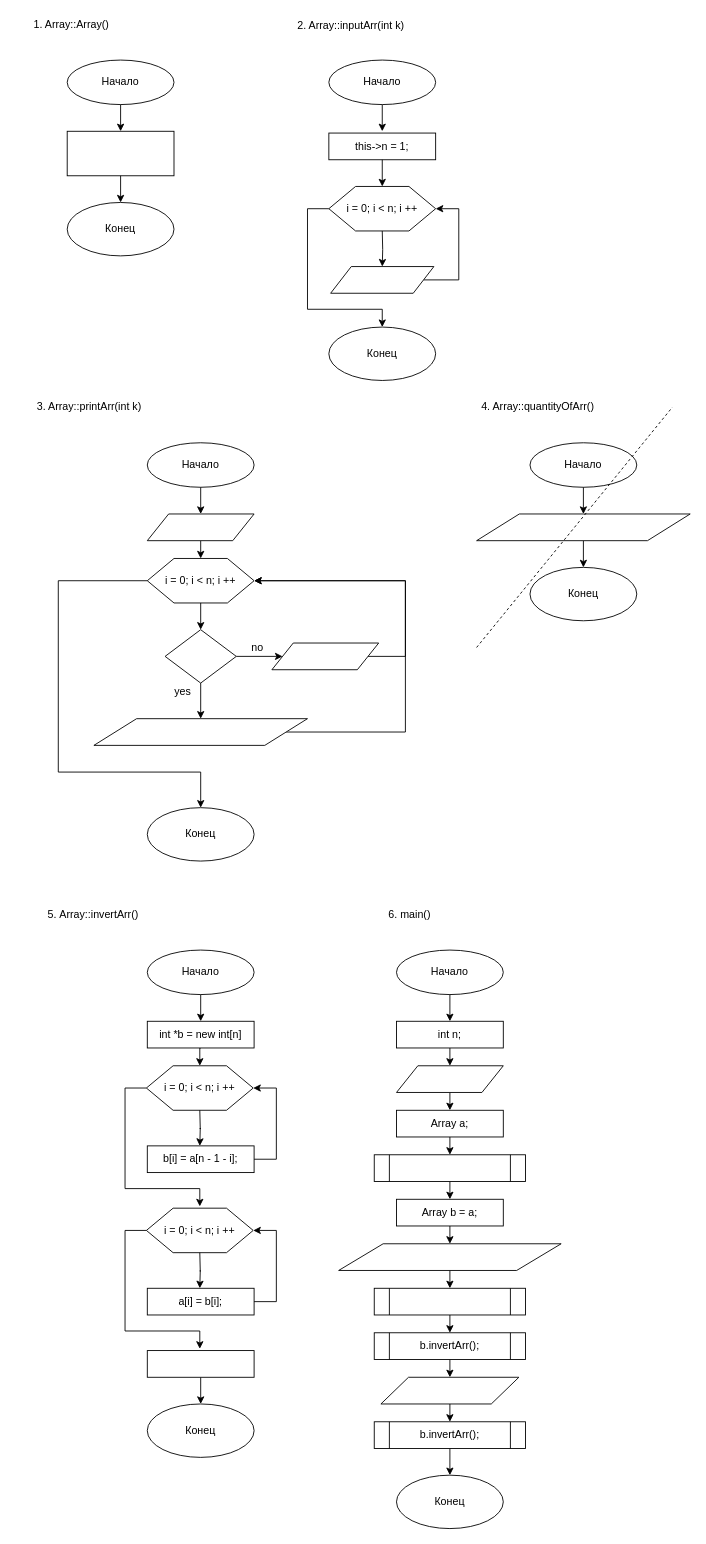
Some shapes in this 706 by 1544 pixel diagram are drawn without their labels. Here are the shapes that lost their labels. From the top down, the box of each, then its label:
(66, 130, 174, 176): n = 1; a[0] = {0};
(330, 266, 434, 293): cin >> a[i];
(146, 513, 254, 541): cout << left;
(476, 513, 690, 541): cout << "N = " << n << endl;
(164, 629, 236, 683): i != n -1
(271, 642, 379, 670): cout << a[i]
(93, 718, 307, 745): cout << setw(k) << a[i] << left;
(396, 1065, 503, 1092): cin >> n;
(373, 1154, 526, 1181): a.inputArr(n);
(338, 1243, 561, 1270): cout << "N = " << n <<endl;
(373, 1287, 526, 1315): a.printArr(5);
(146, 1350, 254, 1377): delete[] b;
(380, 1376, 519, 1404): cout << endl;
